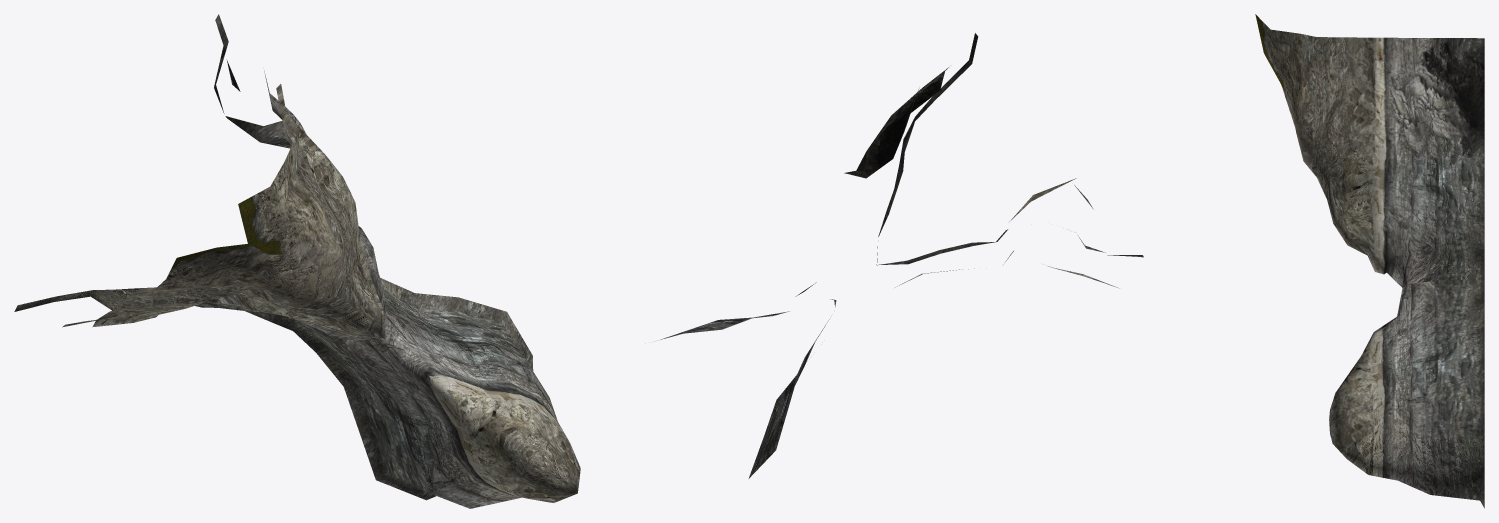
Rendered from cliff07.glb.
3 views of the same model, side by side, from view 1: azimuth 30°, elevation 25°; view 2: azimuth 150°, elevation 25°; view 3: azimuth 270°, elevation 25° (orthographic). The views are drawn at different scales.
Bounding box in the file's own units: 1886 × 1863 × 1026.
3 materials, 3 textured.
